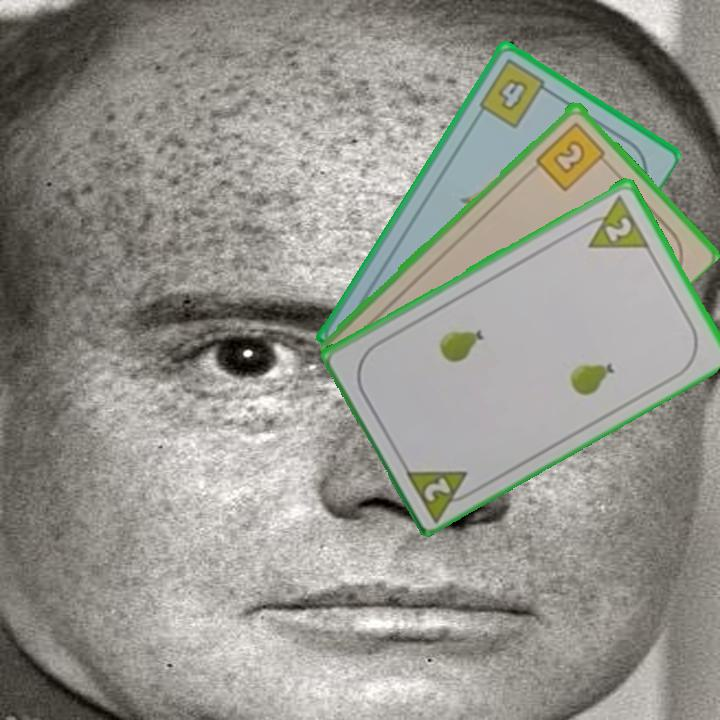2b: (532, 118, 613, 193)
2p: (575, 191, 652, 252), (401, 463, 480, 522)
4b: (474, 55, 555, 131)
